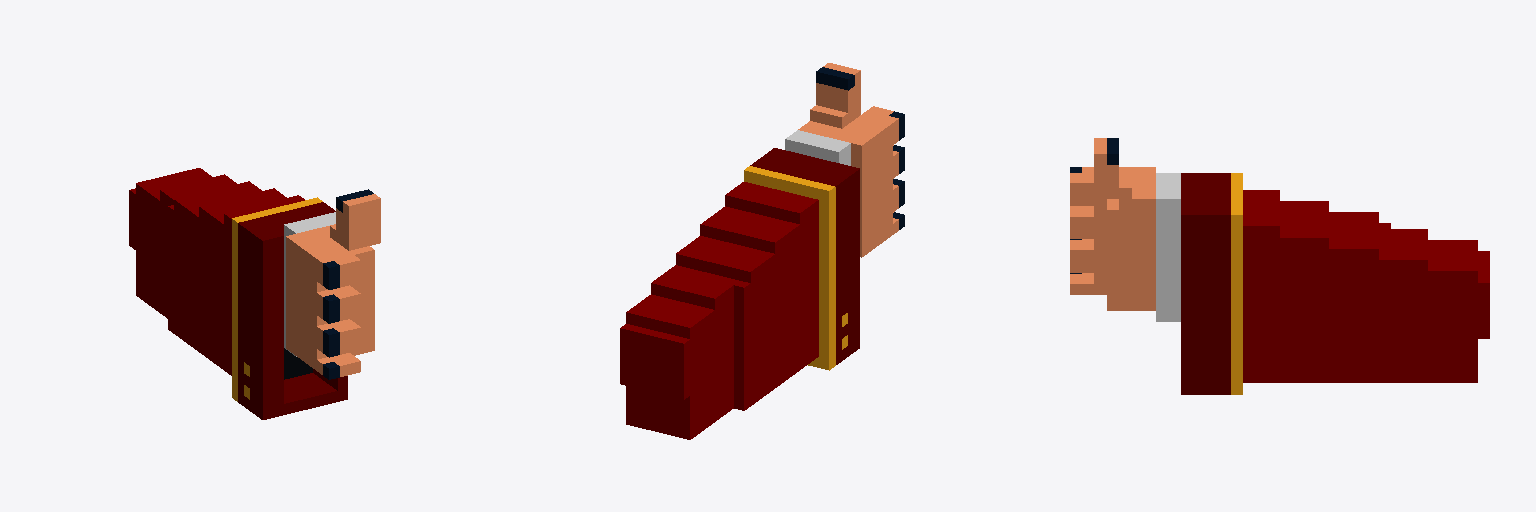
The picture shows the model from 3 angles: view 1: azimuth 30°, elevation 25°; view 2: azimuth 150°, elevation 25°; view 3: azimuth 270°, elevation 25°; orthographic projection.
Visible parts, largest first — view 1: object 1; view 2: object 1; view 3: object 1.
Boxes of the visible parts, x1,y1,x2,y2 form: object 1: [129, 168, 380, 419]; object 1: [620, 63, 904, 439]; object 1: [1070, 138, 1489, 394].
Size of the model in its own units: 0.8 by 2.1 by 3.4.
Materials: 1 (1 with a texture image).